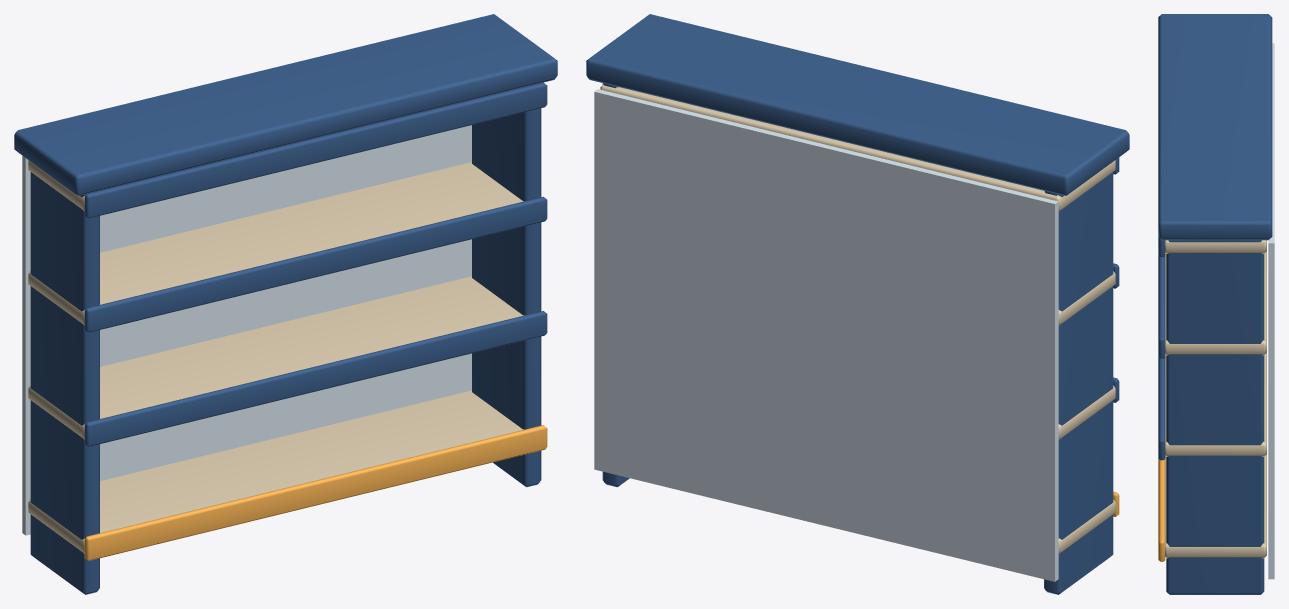
The model's file is TallWallShelf.fbx.
3 views of the same model, side by side, from view 1: azimuth 30°, elevation 25°; view 2: azimuth 150°, elevation 25°; view 3: azimuth 270°, elevation 25° (orthographic). The views are drawn at different scales.
Visible parts, largest first — view 1: TallWallShelf back, TallWallShelf top, TallWallShelf upright, TallWallShelf plank.001, TallWallShelf plank.002, TallWallShelf plank, TallWallShelf upright.001, TallWallShelf shelf edge.001, TallWallShelf shelf edge, TallWallShelf shelf edge.002, TallWallShelf shelf edge.003; view 2: TallWallShelf back, TallWallShelf top, TallWallShelf upright, TallWallShelf plank.003, TallWallShelf plank.002, TallWallShelf plank, TallWallShelf plank.001; view 3: TallWallShelf upright.001, TallWallShelf top, TallWallShelf back, TallWallShelf plank, TallWallShelf plank.002, TallWallShelf plank.001, TallWallShelf plank.003, TallWallShelf shelf edge.001, TallWallShelf shelf edge, TallWallShelf shelf edge.002.
Boxes of the visible parts, x1,y1,x2,y2 form: TallWallShelf back: (22, 125, 471, 535); TallWallShelf top: (14, 14, 557, 195); TallWallShelf upright: (30, 172, 99, 594); TallWallShelf plank.001: (28, 276, 524, 439); TallWallShelf plank.002: (28, 162, 523, 325); TallWallShelf plank: (28, 390, 523, 553); TallWallShelf upright.001: (472, 108, 541, 487); TallWallShelf shelf edge.001: (84, 311, 547, 446); TallWallShelf shelf edge: (84, 425, 547, 560); TallWallShelf shelf edge.002: (84, 196, 547, 332); TallWallShelf shelf edge.003: (84, 82, 547, 218); TallWallShelf back: (594, 89, 1058, 581); TallWallShelf top: (586, 14, 1129, 195); TallWallShelf upright: (1044, 172, 1113, 594); TallWallShelf plank.003: (600, 84, 1115, 211); TallWallShelf plank.002: (1058, 271, 1115, 325); TallWallShelf plank: (1058, 500, 1115, 553); TallWallShelf plank.001: (1058, 385, 1115, 439); TallWallShelf upright.001: (1166, 240, 1264, 594); TallWallShelf top: (1158, 14, 1272, 240); TallWallShelf back: (1268, 43, 1274, 579); TallWallShelf plank: (1165, 454, 1266, 558); TallWallShelf plank.002: (1165, 251, 1266, 355); TallWallShelf plank.001: (1165, 353, 1266, 456); TallWallShelf plank.003: (1165, 240, 1266, 253); TallWallShelf shelf edge.001: (1158, 357, 1165, 460); TallWallShelf shelf edge: (1158, 459, 1165, 561); TallWallShelf shelf edge.002: (1158, 256, 1165, 358).
Bounding box in the file's own units: 344 × 291 × 80.75.
